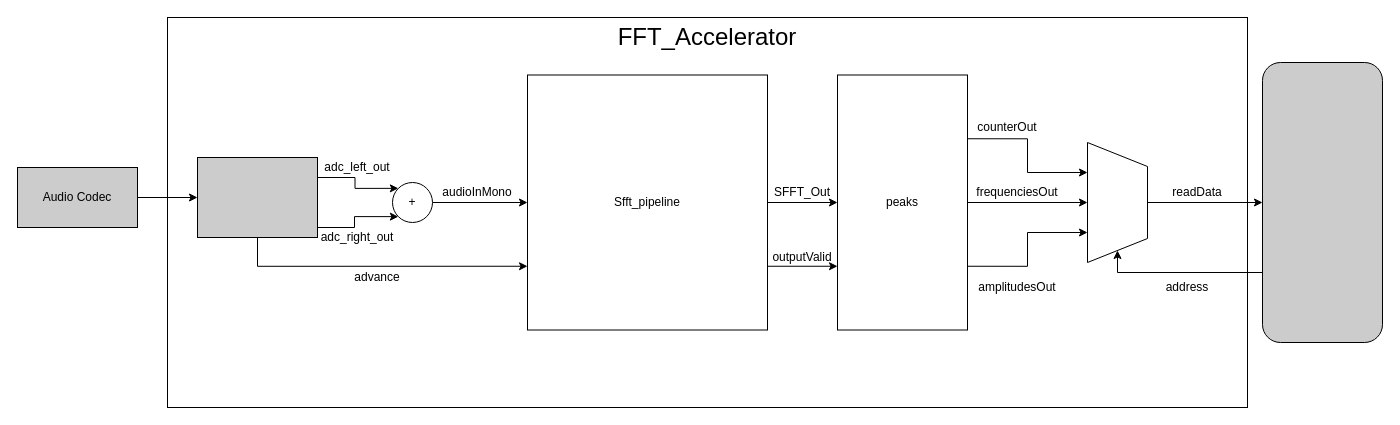
The diagram is 1400 pixels wide and 425 high, and some of its shapes have lost their labels. Here are the shapes that lost their labels. From the top down, the box of each, then its label:
(196, 156, 318, 238): audio_driver
(1262, 62, 1382, 342): Avalon Interface
